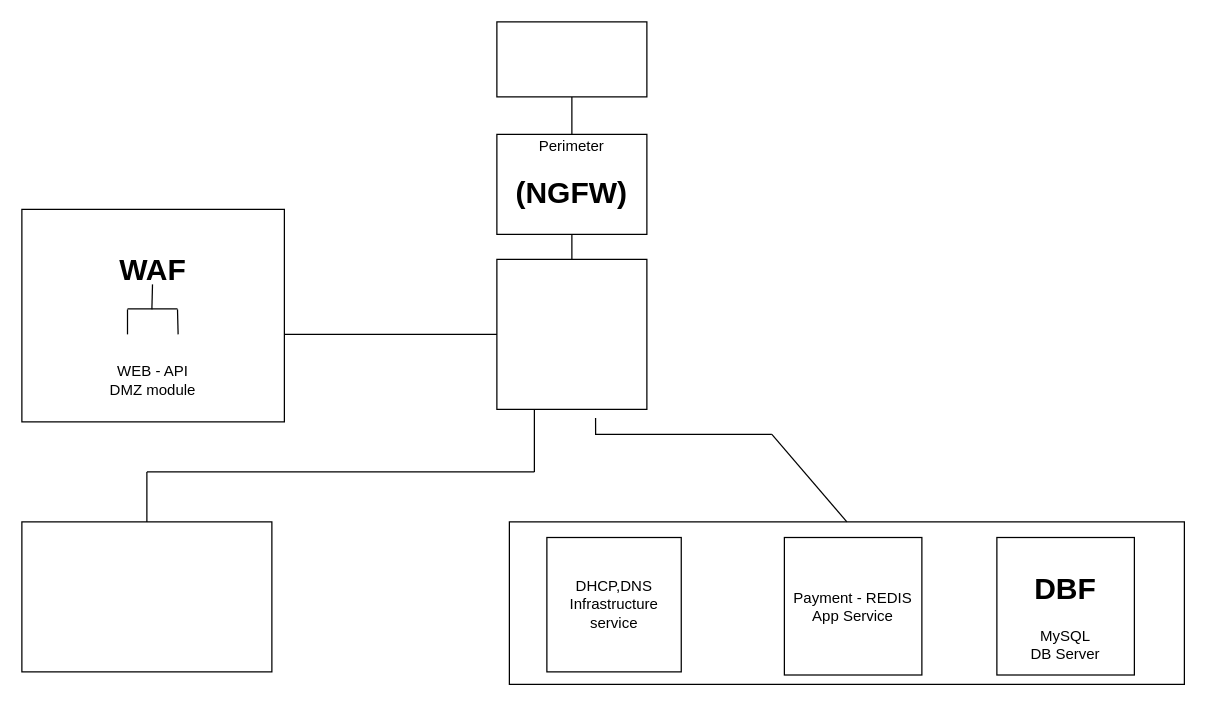
Some shapes in this 1206 by 706 pixel diagram are drawn without their labels. The box of each missing label's shape, as (x1, y1, x2, y2) in pixels:
ACL Core module SWL3: (496, 258, 647, 409)
Client Module Staff Guest Devices: (21, 521, 272, 672)
WAN module Load balacing: (496, 21, 647, 97)
